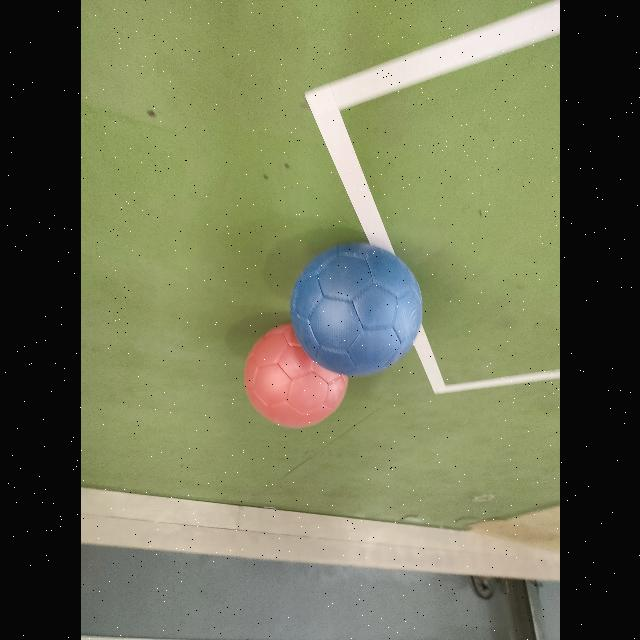B: (290, 244, 422, 376)
R: (244, 324, 346, 428)
